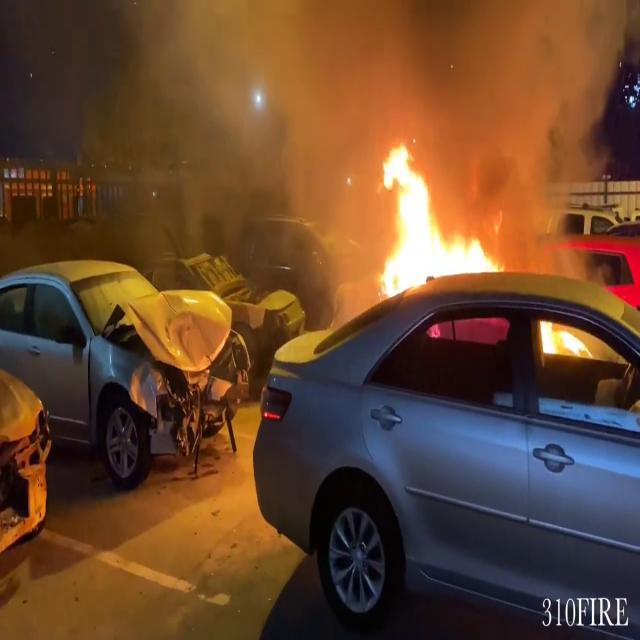Fire: (365, 138, 503, 298), (537, 314, 594, 364)
Smoke: (18, 0, 632, 230)
